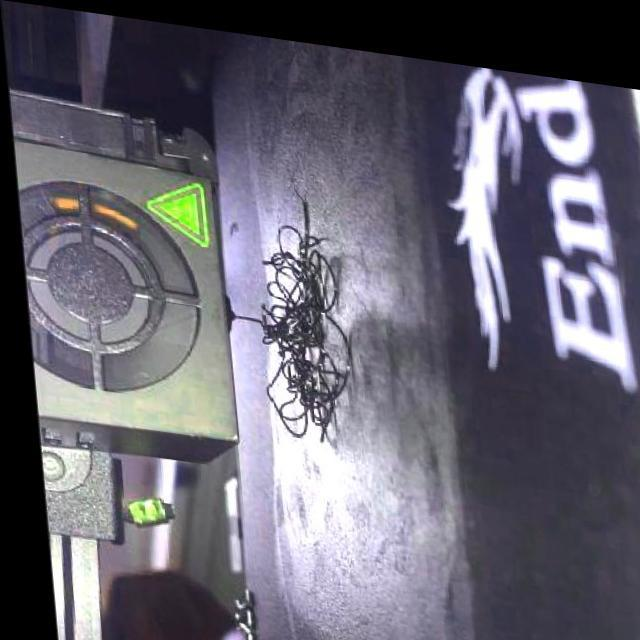spaghetti: (243, 187, 348, 440)
